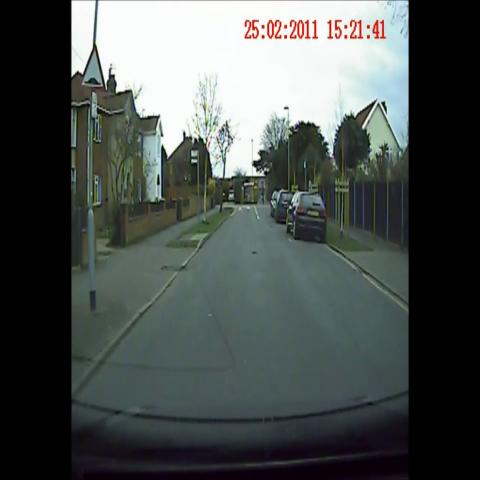pothole: (246, 245, 262, 264)
